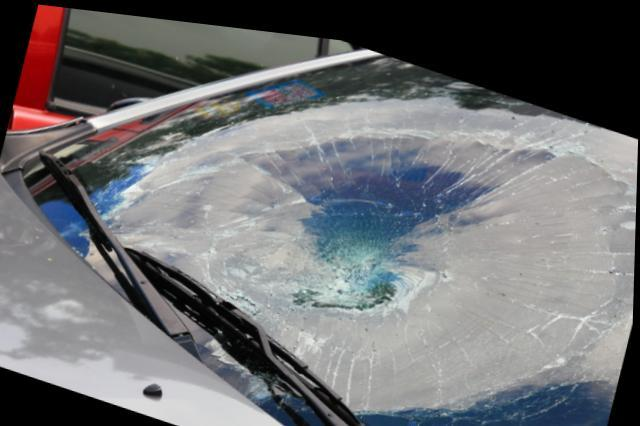glass shatter: (35, 46, 639, 426)
